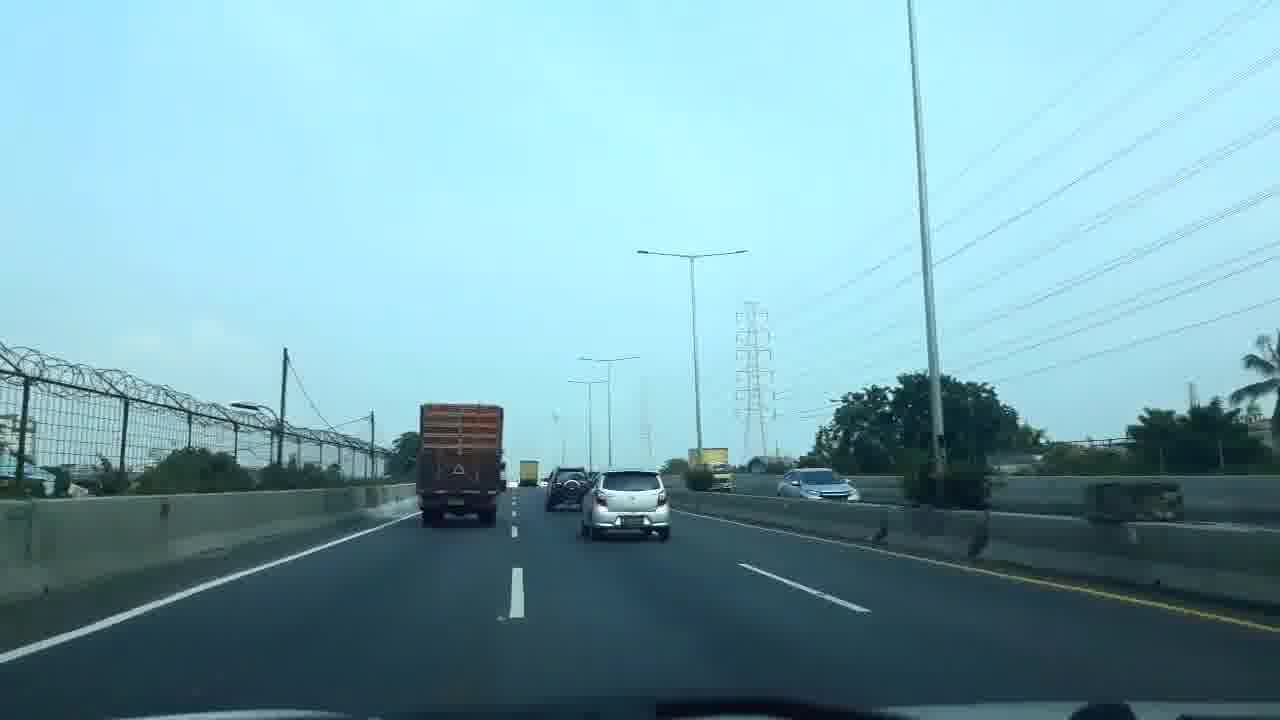plate_positive: (621, 516, 644, 525)
